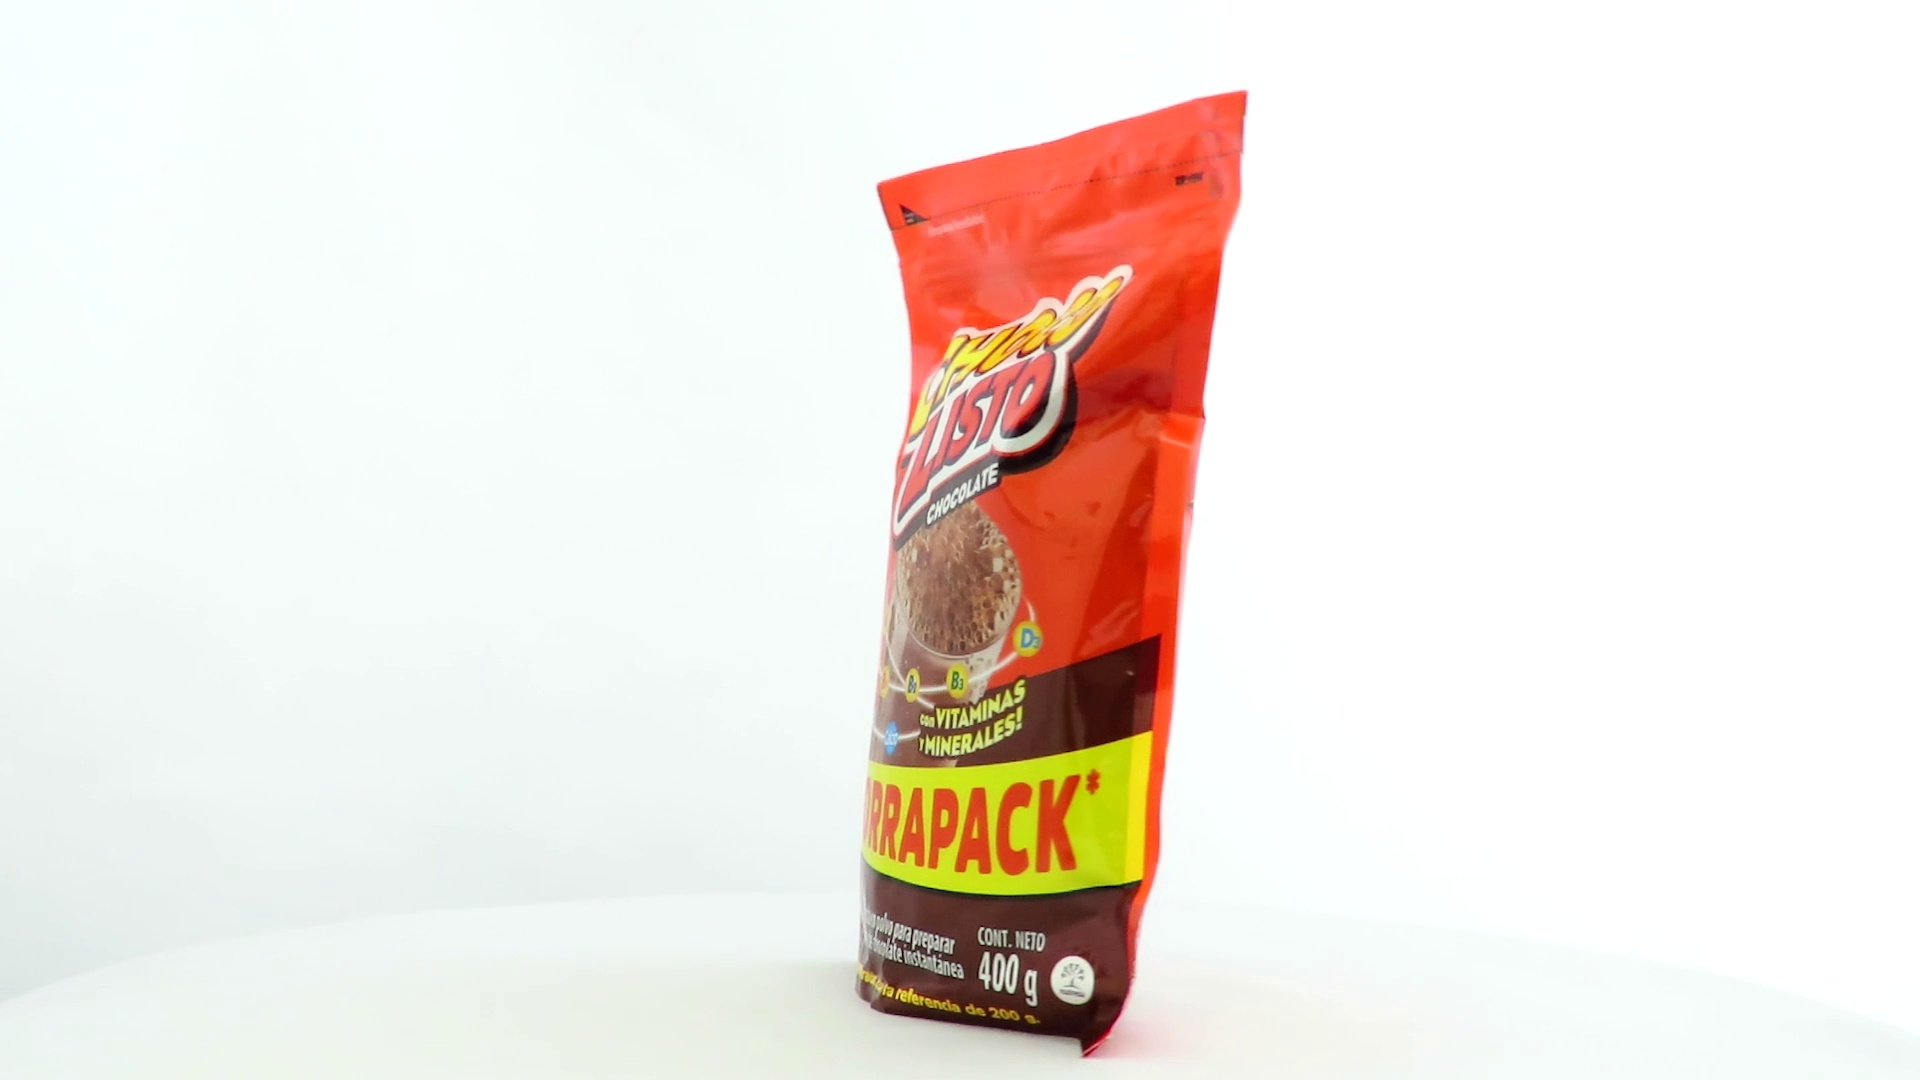COL0170103DYP40000: (845, 84, 1253, 1065)
